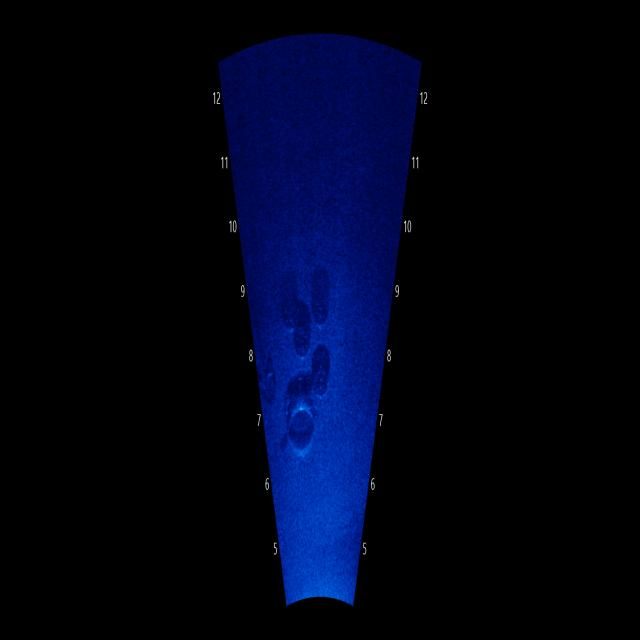circle: (282, 392, 320, 463), (310, 281, 335, 330), (312, 362, 332, 400)
